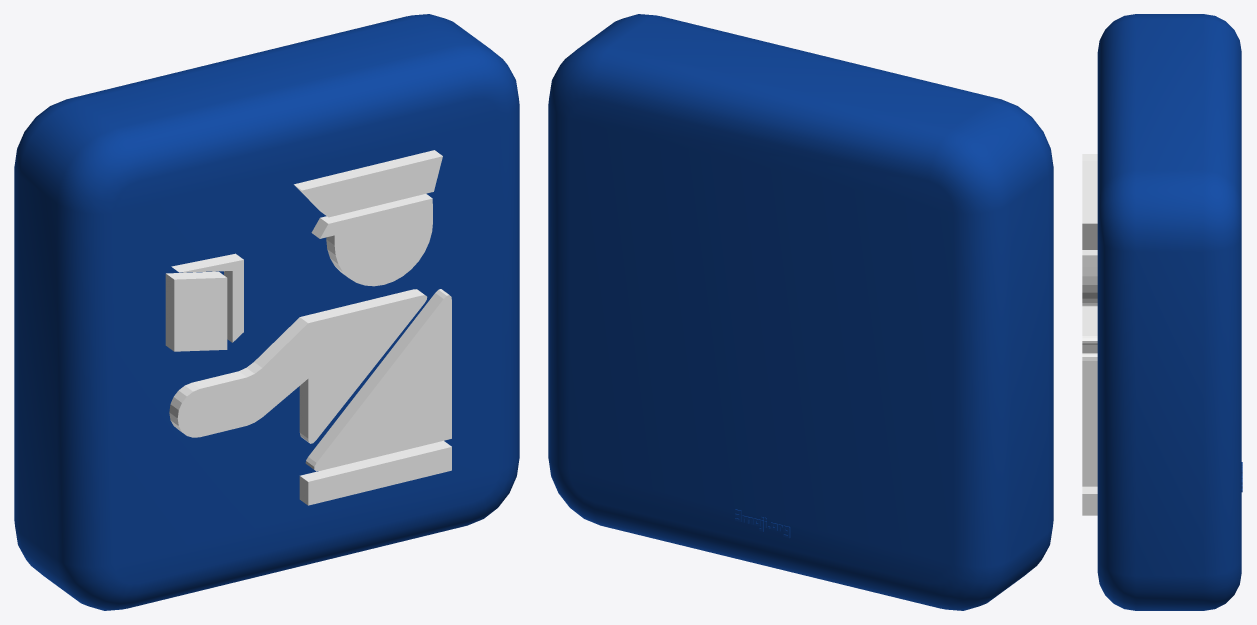
Rendered from passport_control.fbx.
3 renders of one model, left to right at view 1: azimuth 30°, elevation 25°; view 2: azimuth 150°, elevation 25°; view 3: azimuth 270°, elevation 25°, orthographic. The views are drawn at different scales.
Parts seen in each view (by area): view 1: Cube.293; view 2: Cube.293; view 3: Cube.293.
Boxes of the visible parts, <box> form: Cube.293: <box>14,14,519,610</box>; Cube.293: <box>548,14,1053,610</box>; Cube.293: <box>1082,14,1242,610</box>.
Size of the model in its own units: 220 by 220 by 73.37.
Materials: 1 (1 with a texture image).
